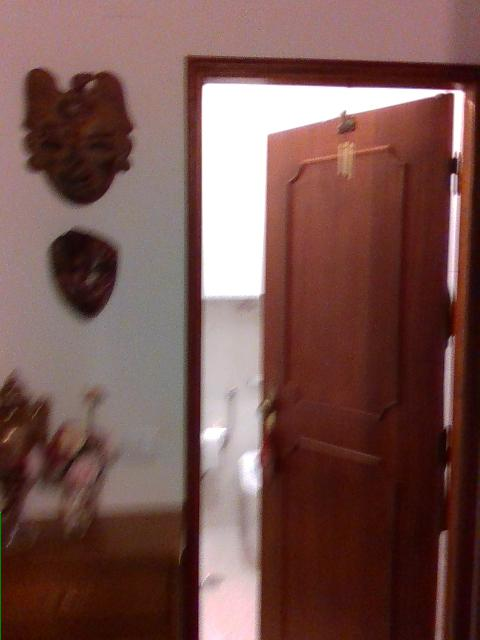semi_door: (184, 52, 479, 639)
